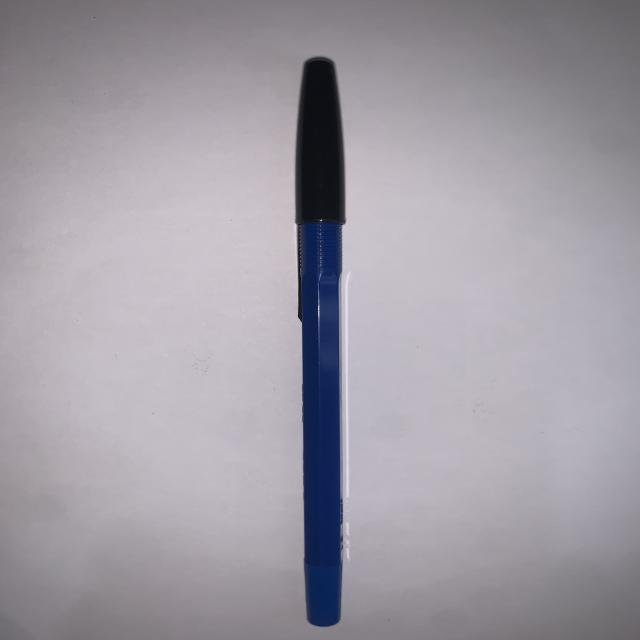Pulpen: (266, 50, 368, 632)
